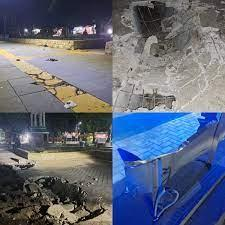Pothole: (14, 158, 118, 225), (29, 52, 97, 117), (124, 0, 191, 65), (132, 68, 177, 119)
